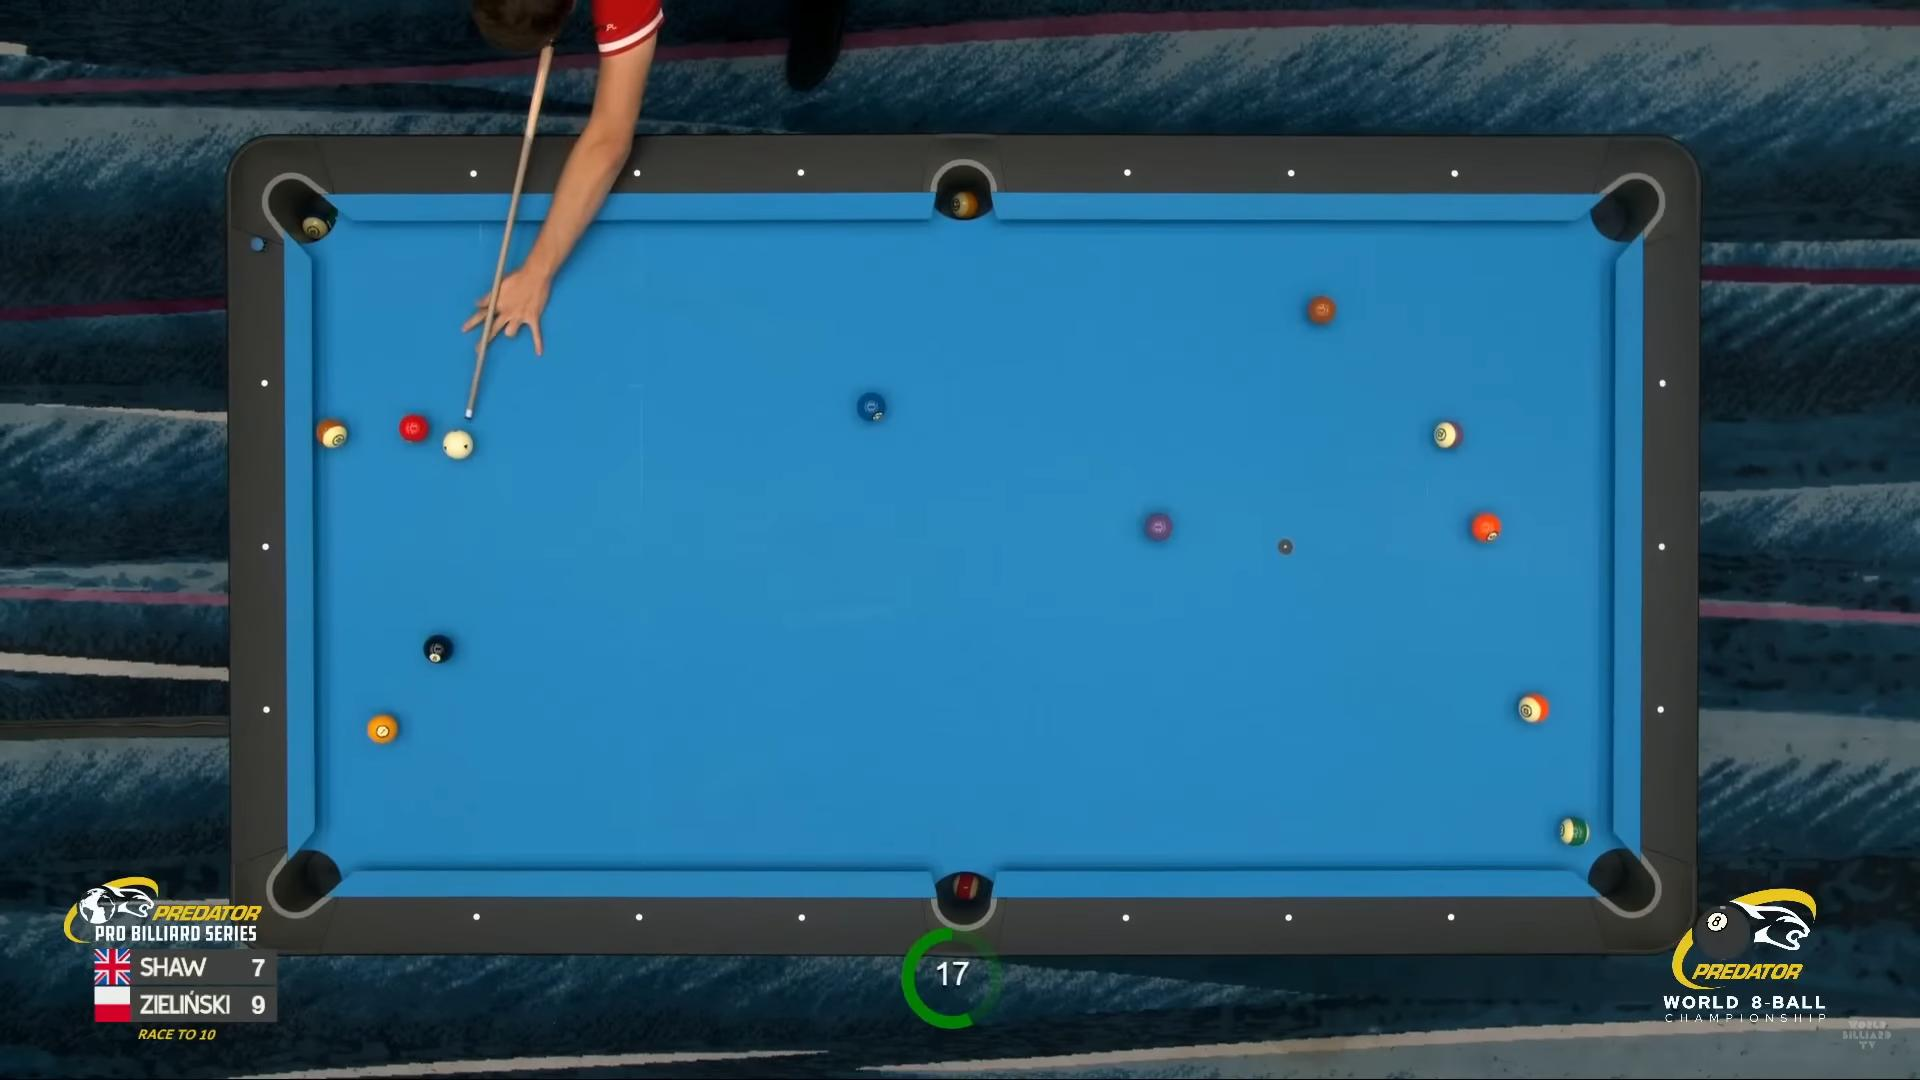Black: (423, 634, 455, 663)
Cue: (443, 429, 473, 459)
Dot: (260, 702, 274, 716), (1448, 166, 1462, 181), (1655, 539, 1669, 554), (1654, 703, 1668, 717), (1444, 910, 1458, 924), (1280, 910, 1295, 924), (794, 910, 808, 924), (632, 910, 646, 924), (258, 541, 273, 554), (260, 376, 274, 389), (467, 166, 481, 179), (632, 166, 645, 181), (793, 166, 807, 179), (1120, 166, 1134, 179), (1655, 377, 1669, 390), (1118, 911, 1133, 924), (469, 910, 484, 923), (1284, 166, 1298, 179)
Solid: (368, 713, 398, 744), (1472, 513, 1501, 542), (857, 392, 886, 421), (400, 414, 429, 442), (1308, 295, 1336, 323), (1145, 513, 1172, 541)
Striped: (1559, 816, 1589, 847), (1518, 694, 1548, 724), (316, 419, 347, 448), (1433, 421, 1464, 448)
